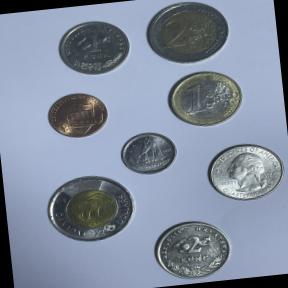1 Euro: (162, 64, 250, 132)
2 Euro: (141, 0, 236, 69)
Canda-10cent-: (116, 130, 181, 180)
Canda-2Dollar-: (40, 171, 140, 248)
Croatia-2Kune-: (148, 215, 237, 285)
US-1cent-: (40, 87, 115, 144)
US-25cent-: (201, 137, 288, 206)
